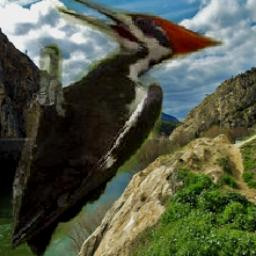Woodpecker: (10, 0, 226, 256)
